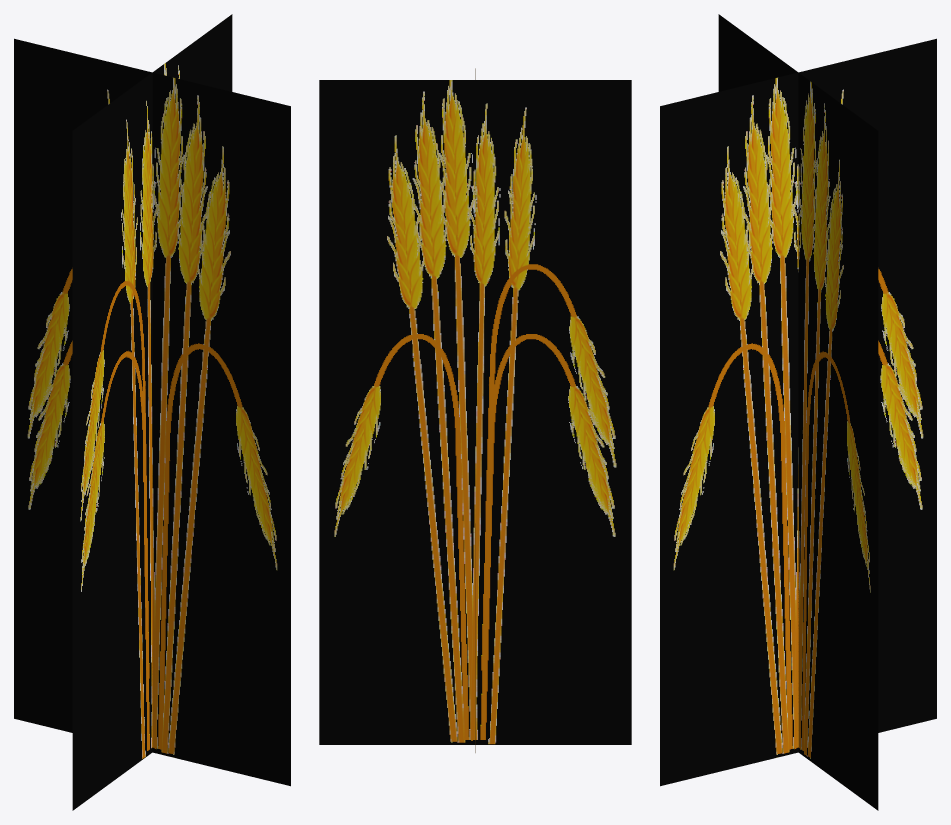
Rendered from wheat_bushel.glb.
3 renders of one model, left to right at view 1: azimuth 30°, elevation 25°; view 2: azimuth 150°, elevation 25°; view 3: azimuth 270°, elevation 25°, orthographic. The views are drawn at different scales.
Visible parts, largest first — view 1: wheat_bushel; view 2: wheat_bushel; view 3: wheat_bushel.
Part boxes in pixels (bbox=[...]): wheat_bushel: bbox=[14, 14, 290, 810]; wheat_bushel: bbox=[319, 68, 631, 752]; wheat_bushel: bbox=[660, 14, 936, 810].
Size of the model in its own units: 0.7377 by 2 by 0.7377.
Materials: 1 (1 with a texture image).
